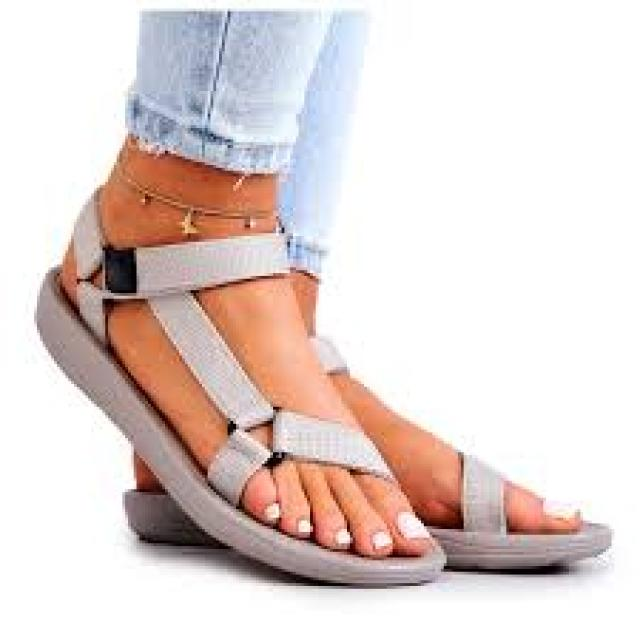Sandals: (32, 125, 446, 586)
